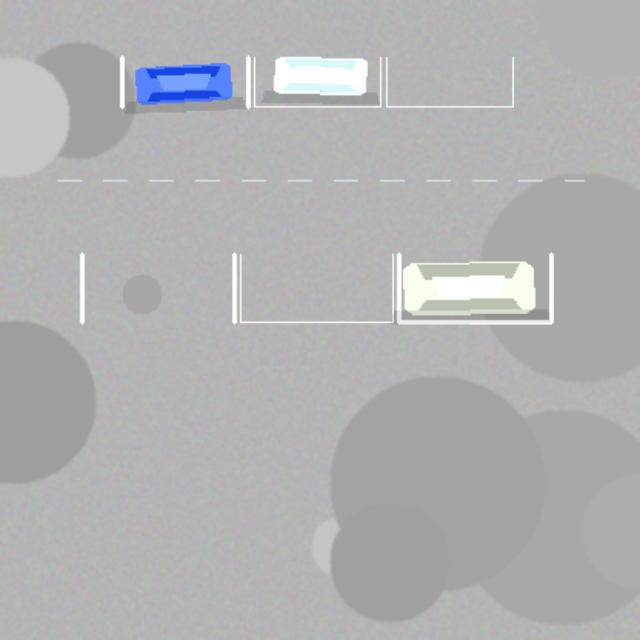space-empty: (82, 254, 234, 322), (240, 254, 392, 322), (386, 57, 512, 106)
space-occupied: (398, 254, 551, 322), (122, 57, 248, 106), (254, 57, 380, 106)
